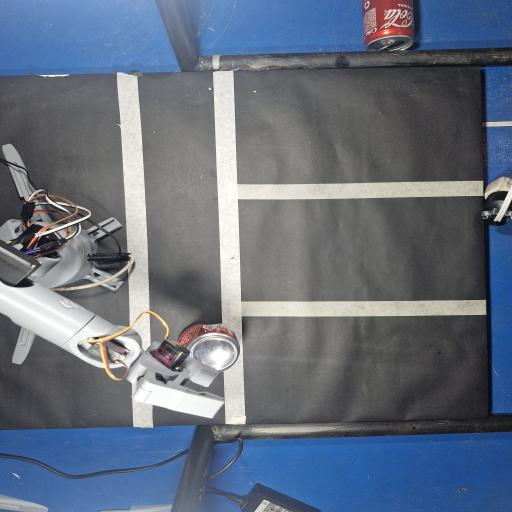lata_defectuoso: (178, 324, 240, 371)
